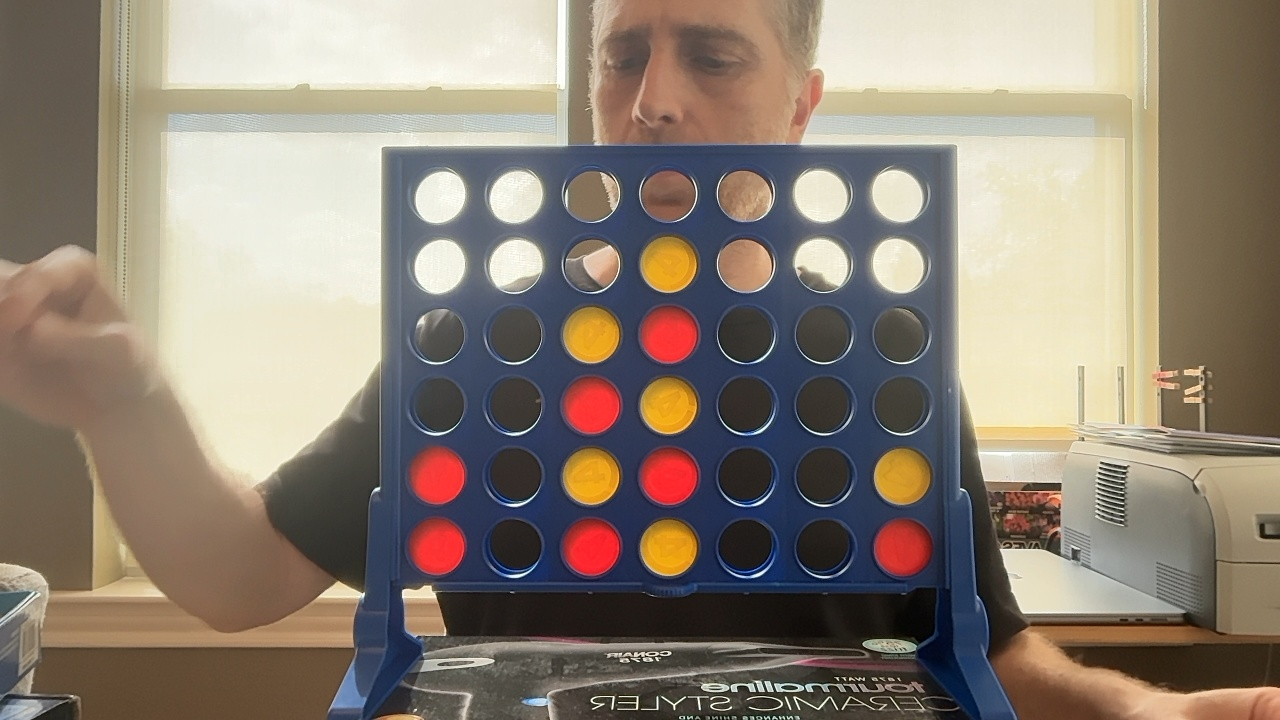red piece: (562, 376, 621, 435), (639, 447, 698, 505), (874, 518, 932, 577), (562, 518, 620, 577), (639, 306, 698, 363), (407, 518, 465, 575), (409, 446, 465, 504)
yellow piece: (562, 447, 620, 505), (640, 519, 698, 577), (562, 306, 620, 363), (639, 377, 697, 434), (874, 447, 931, 505), (640, 235, 697, 292)
